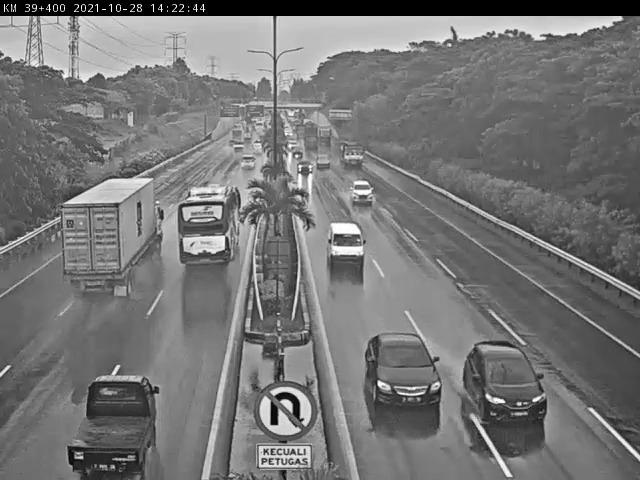big bus: (167, 184, 240, 277)
big truck: (44, 176, 160, 309), (337, 141, 366, 170)
car: (64, 369, 157, 480), (461, 340, 549, 431), (357, 336, 445, 425), (320, 214, 363, 266), (347, 177, 372, 202), (238, 154, 255, 173), (297, 158, 313, 176), (314, 155, 330, 170), (289, 144, 304, 159), (251, 141, 267, 155)
